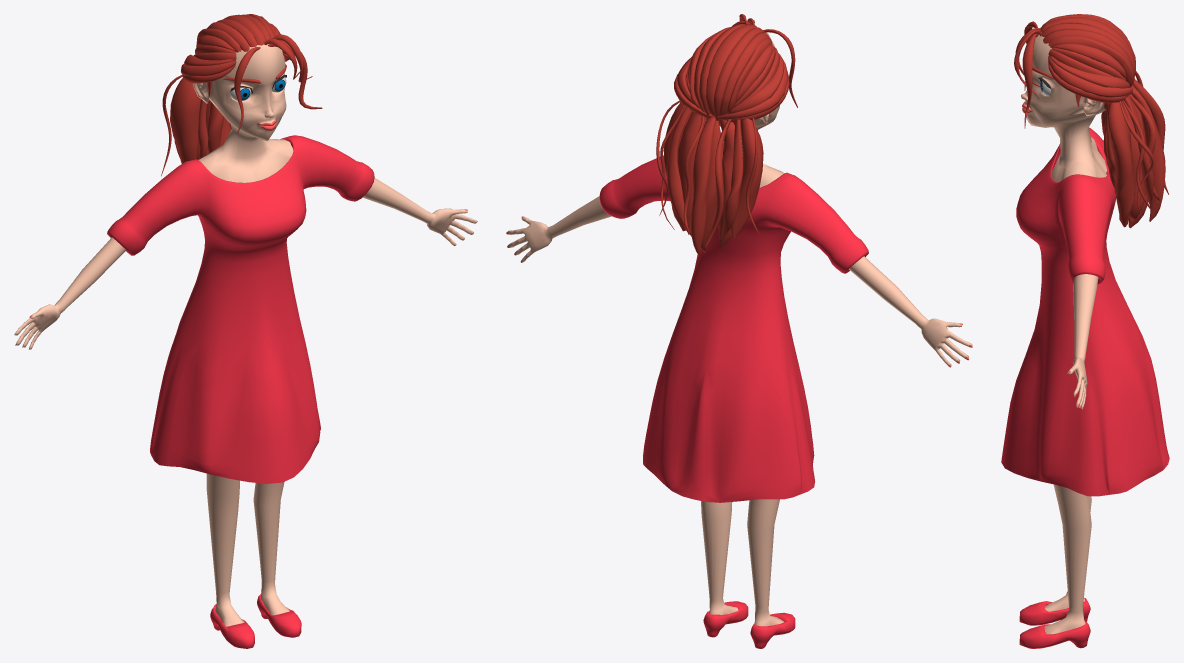
The picture shows the model from 3 angles, left to right: view 1: azimuth 30°, elevation 25°; view 2: azimuth 150°, elevation 25°; view 3: azimuth 270°, elevation 25°; orthographic projection.
Visible parts, largest first — view 1: Shirt.003, Model_3, Heels.001; view 2: Shirt.003, Model_3, Heels.001; view 3: Shirt.003, Model_3, Heels.001.
Boxes of the visible parts, x1,y1,x2,y2 form: Shirt.003: (107,135,374,483); Model_3: (14,14,477,626); Heels.001: (210,593,301,648); Shirt.003: (599,155,868,502); Model_3: (506,14,972,626); Heels.001: (703,601,795,648); Shirt.003: (1001,127,1169,496); Model_3: (1014,14,1168,634); Heels.001: (1019,598,1090,648).
Bounding box in the file's own units: 389 × 486 × 120.
